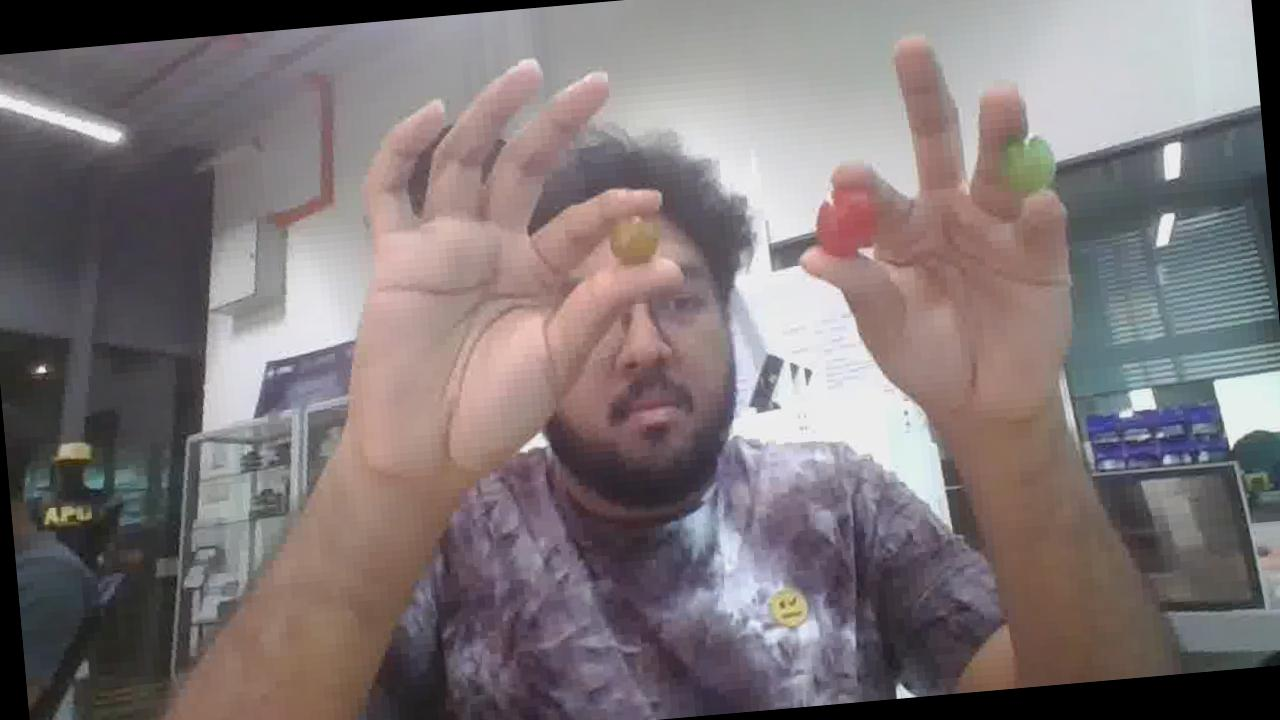green_cherry_tomato: (1003, 136, 1054, 195)
red_cherry_tomato: (815, 188, 878, 257)
yellow_cherry_tomato: (610, 217, 657, 264)
